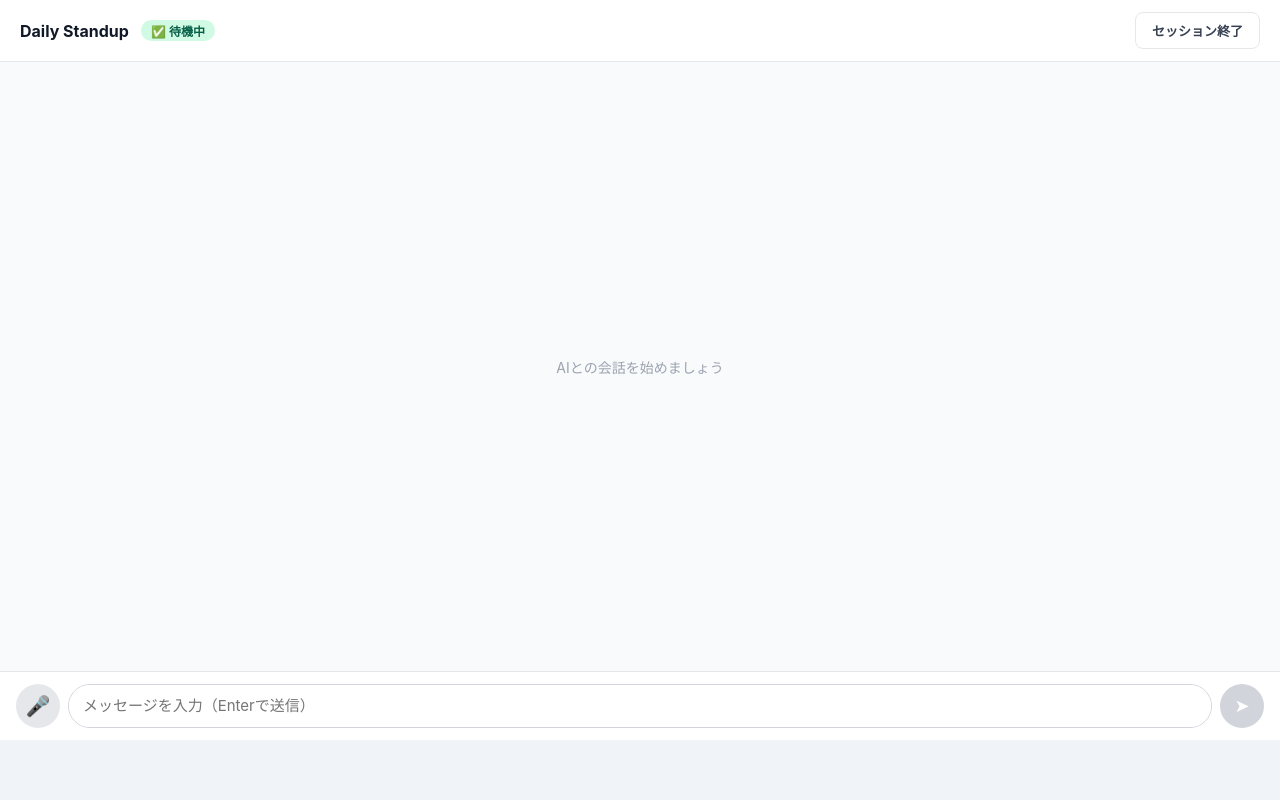
Test: ChatPage › セッション終了失敗時にエラーが表示される
Click the button "セッション終了". click: click(1198, 30)
box: [1135, 12, 1260, 49]
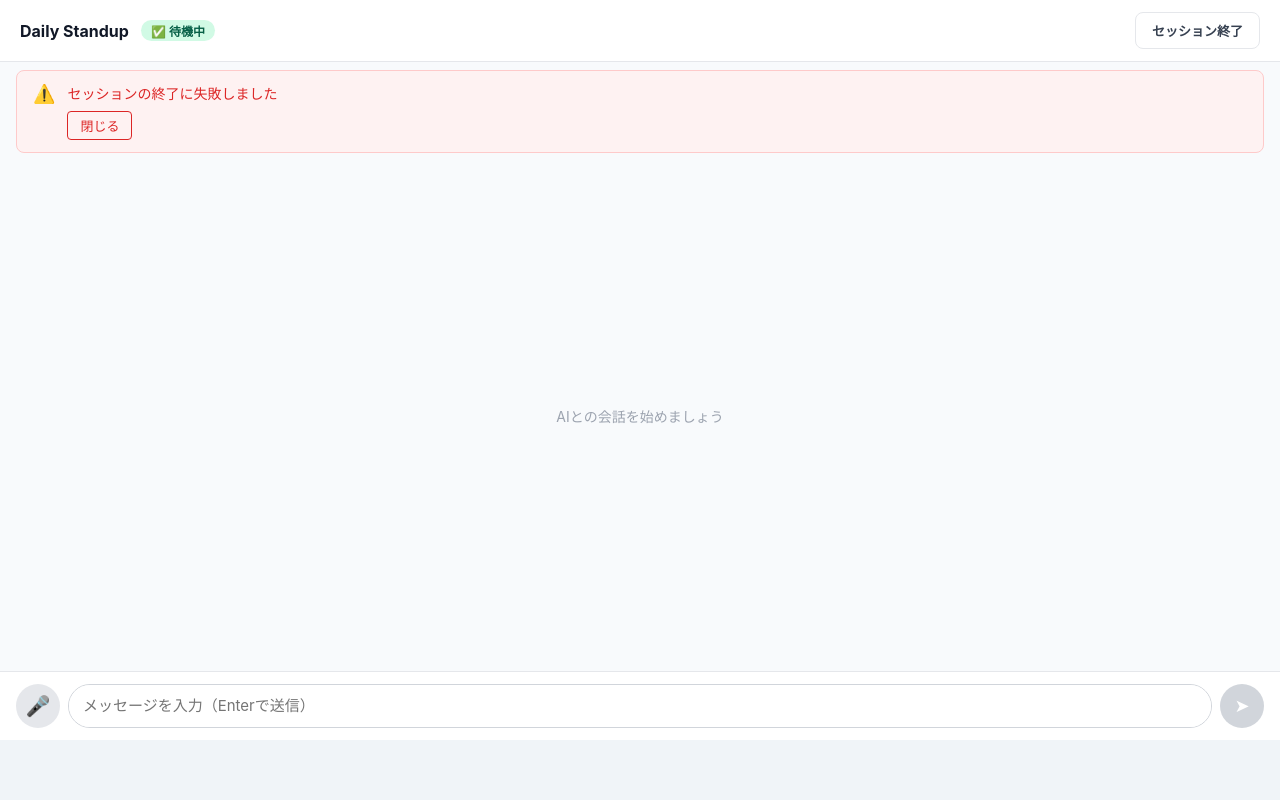
Expected: the text "セッションの終了に失敗しました" is shown, [68, 85, 278, 102]
